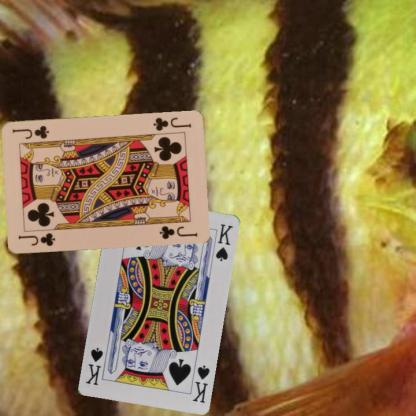Jc: (150, 115, 192, 132), (15, 230, 56, 247)
Ks: (189, 362, 211, 404)
